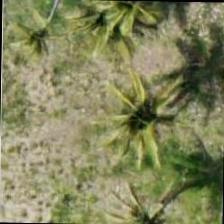Kelapa_Sawit: (98, 72, 190, 163), (55, 0, 147, 73), (83, 0, 175, 50), (105, 174, 198, 223)
